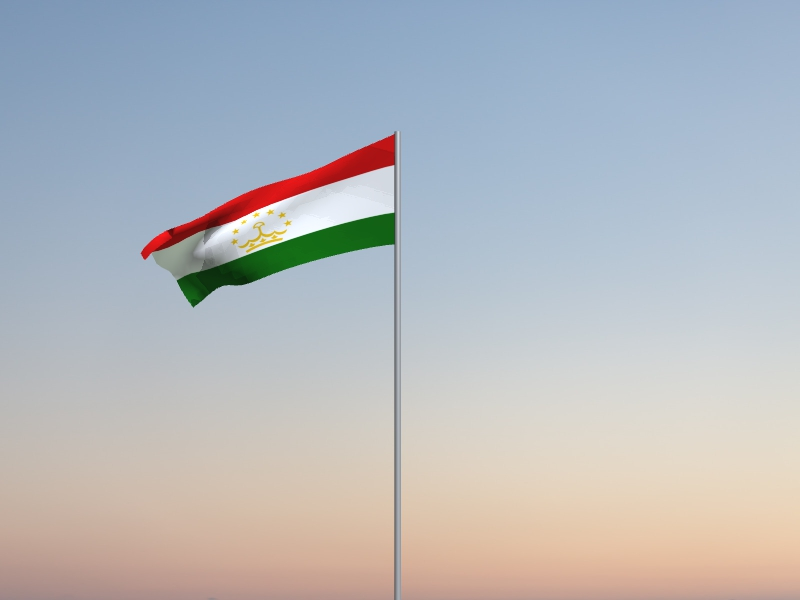tj: (140, 134, 395, 309)
